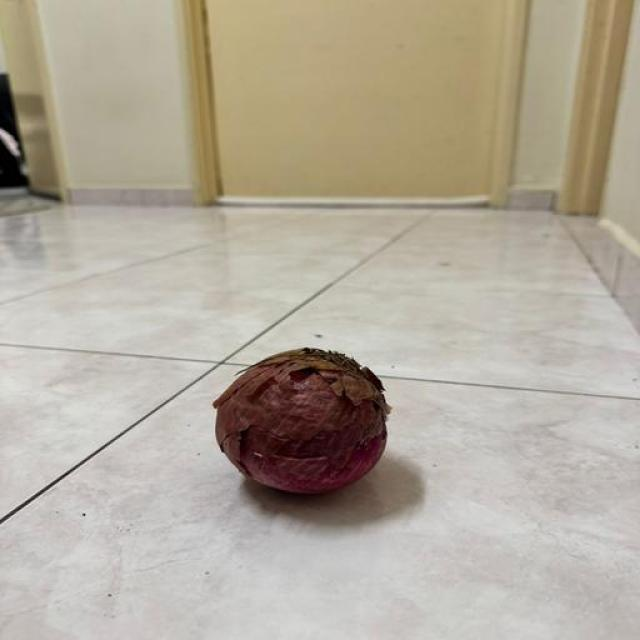organic: (210, 328, 464, 584)
